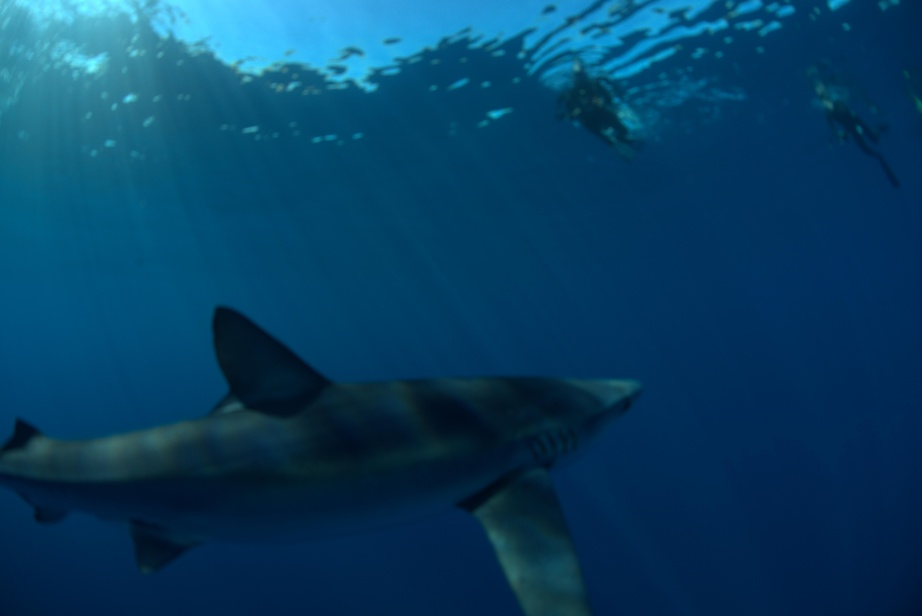Azul: (11, 293, 840, 616)
